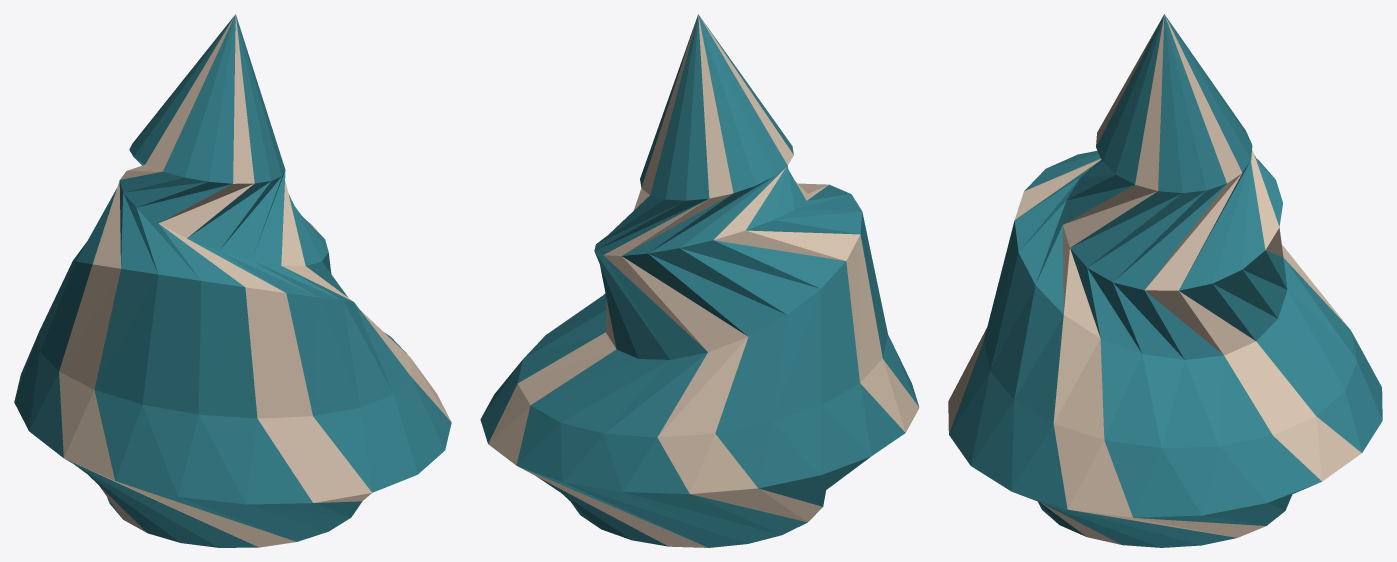
File: beach_snail.fbx
3 renders of one model, left to right at view 1: azimuth 30°, elevation 25°; view 2: azimuth 150°, elevation 25°; view 3: azimuth 270°, elevation 25°, orthographic.
Parts seen in each view (by area): view 1: pCone1; view 2: pCone1; view 3: pCone1.
Boxes of the visible parts, x1,y1,x2,y2 form: pCone1: [14, 14, 451, 547]; pCone1: [480, 14, 919, 547]; pCone1: [948, 14, 1382, 547].
Size of the model in its own units: 0.7798 by 0.9536 by 0.7817.
